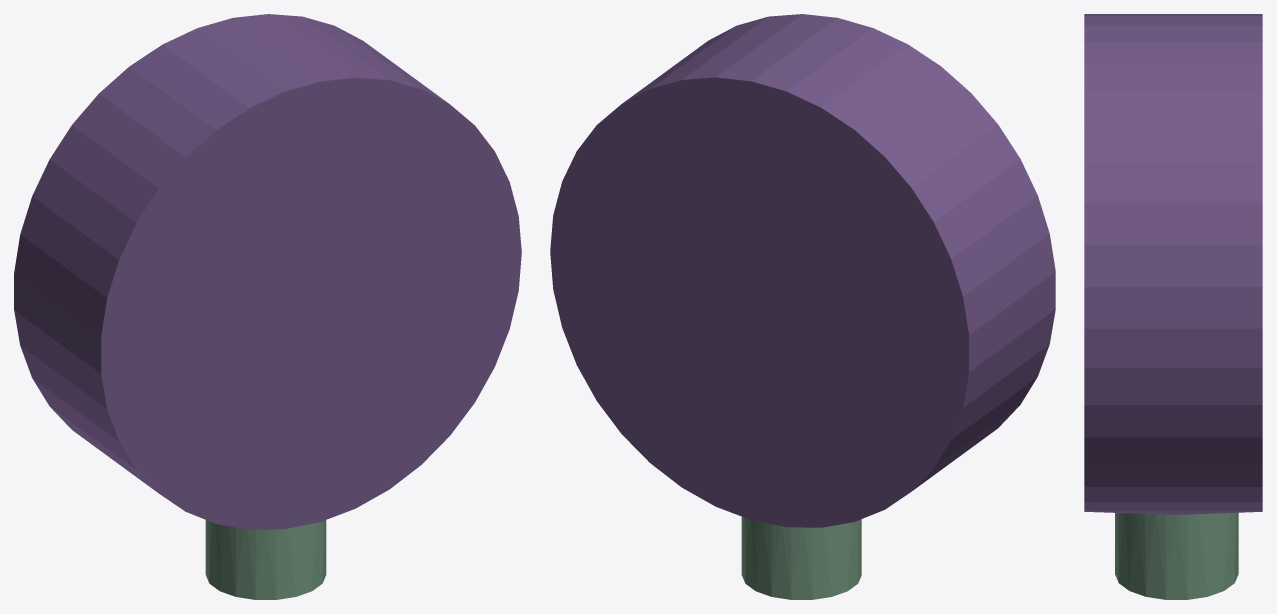
The picture shows the model from 3 angles, left to right: view 1: azimuth 30°, elevation 25°; view 2: azimuth 150°, elevation 25°; view 3: azimuth 270°, elevation 25°; orthographic projection. The views are drawn at different scales.
Parts seen in each view (by area): view 1: geometry_1, geometry_0; view 2: geometry_1, geometry_0; view 3: geometry_1, geometry_0.
Part boxes in pixels (x1,y1,x2,y2): geometry_1: [14, 14, 521, 529]; geometry_0: [205, 520, 326, 599]; geometry_1: [550, 14, 1055, 527]; geometry_0: [741, 517, 861, 599]; geometry_1: [1084, 14, 1262, 514]; geometry_0: [1115, 512, 1238, 599].
Size of the model in its own units: 0.0753 by 0.0897 by 0.027.
